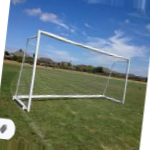goals: (12, 26, 133, 114)
